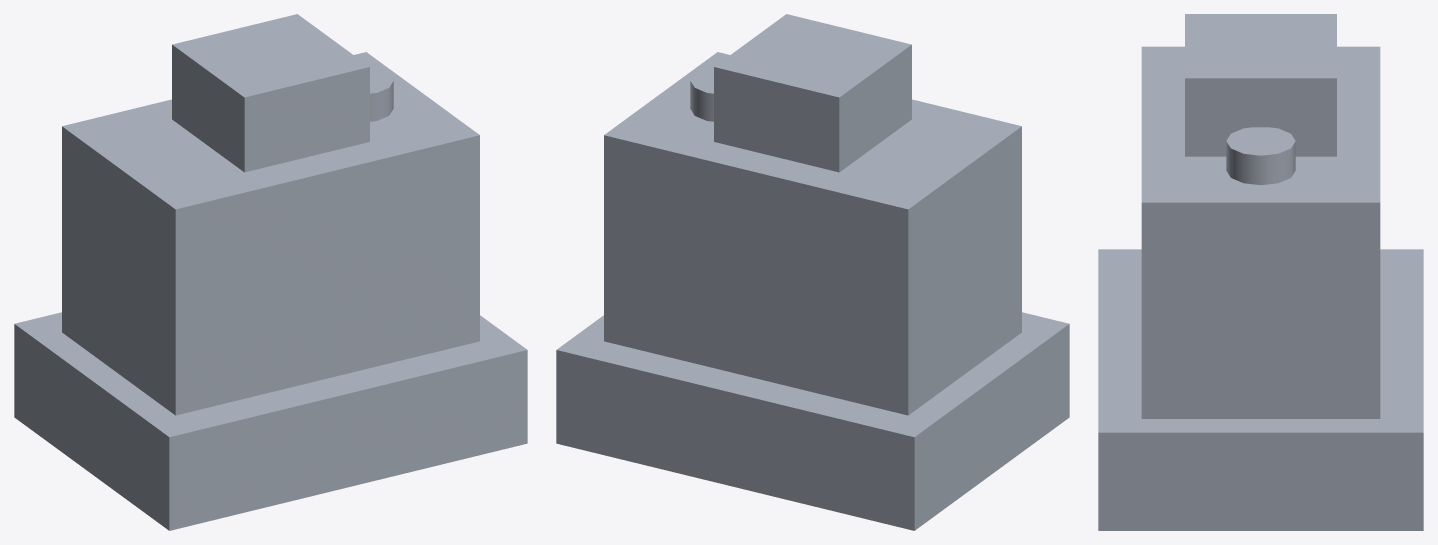
The model's file is cnc.glb.
3 views of the same model, side by side, from view 1: azimuth 30°, elevation 25°; view 2: azimuth 150°, elevation 25°; view 3: azimuth 270°, elevation 25° (orthographic). The views are drawn at different scales.
Size of the model in its own units: 1 by 1 by 0.75.
